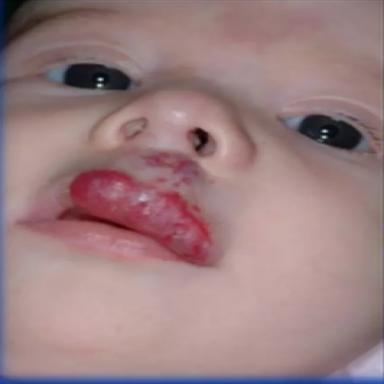Hemangiome: (70, 170, 212, 264)
